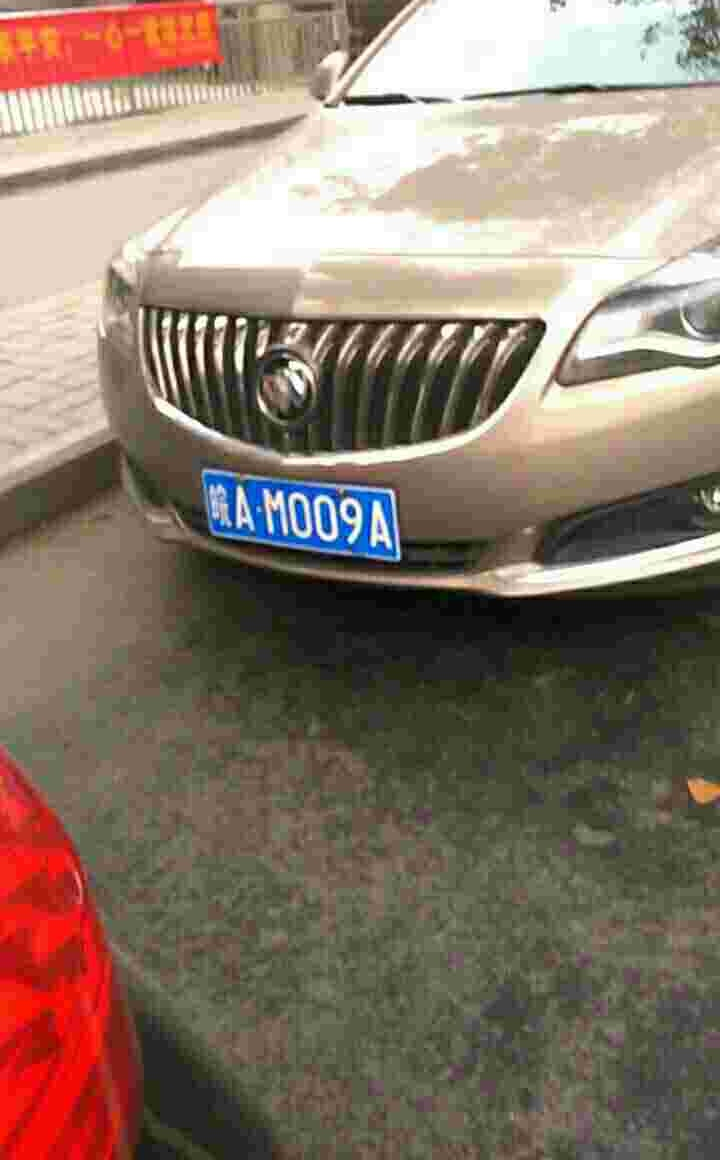plate: (196, 464, 405, 565)
